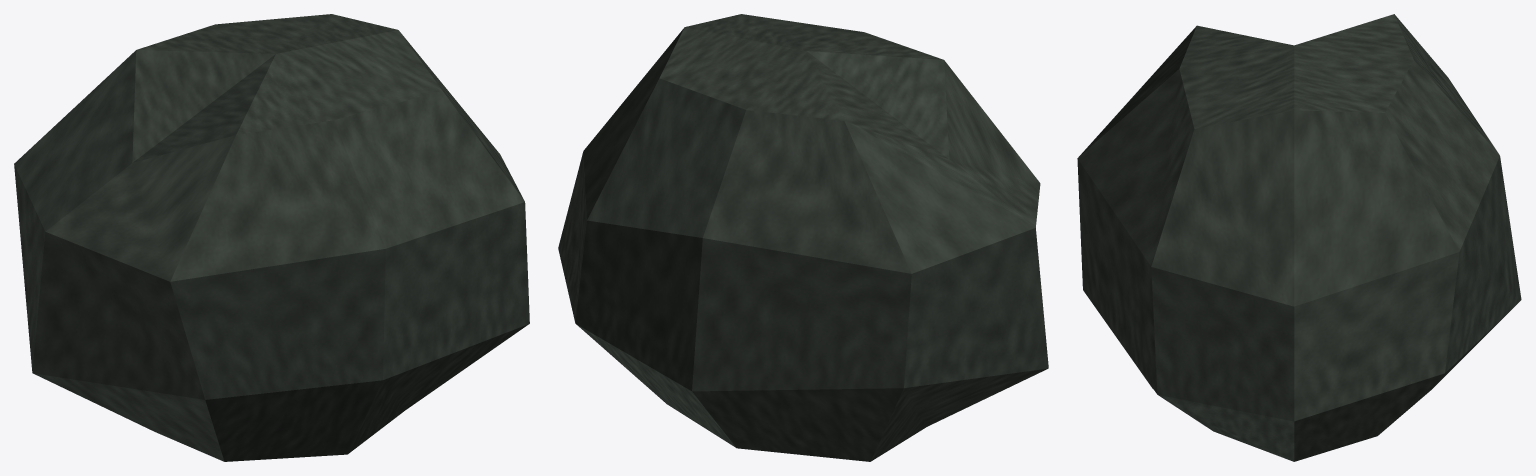
The model's file is Rock_02.glb.
3 views of the same model, side by side, from view 1: azimuth 30°, elevation 25°; view 2: azimuth 150°, elevation 25°; view 3: azimuth 270°, elevation 25° (orthographic).
Parts seen in each view (by area): view 1: Rock_02; view 2: Rock_02; view 3: Rock_02.
Part boxes in pixels (bbox=[...]): Rock_02: bbox=[14, 14, 529, 461]; Rock_02: bbox=[558, 14, 1048, 461]; Rock_02: bbox=[1077, 14, 1521, 461].
Size of the model in its own units: 1.27 by 0.8541 by 1.
1 material, 1 textured.
